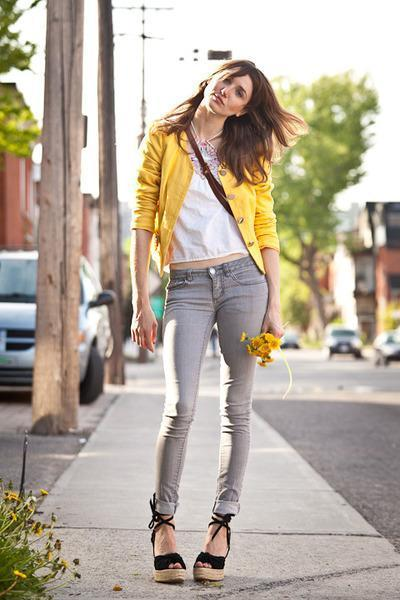jacket: (132, 113, 276, 282)
pants: (150, 253, 274, 515)
shirt: (173, 135, 232, 251)
shoe: (154, 552, 225, 584)
